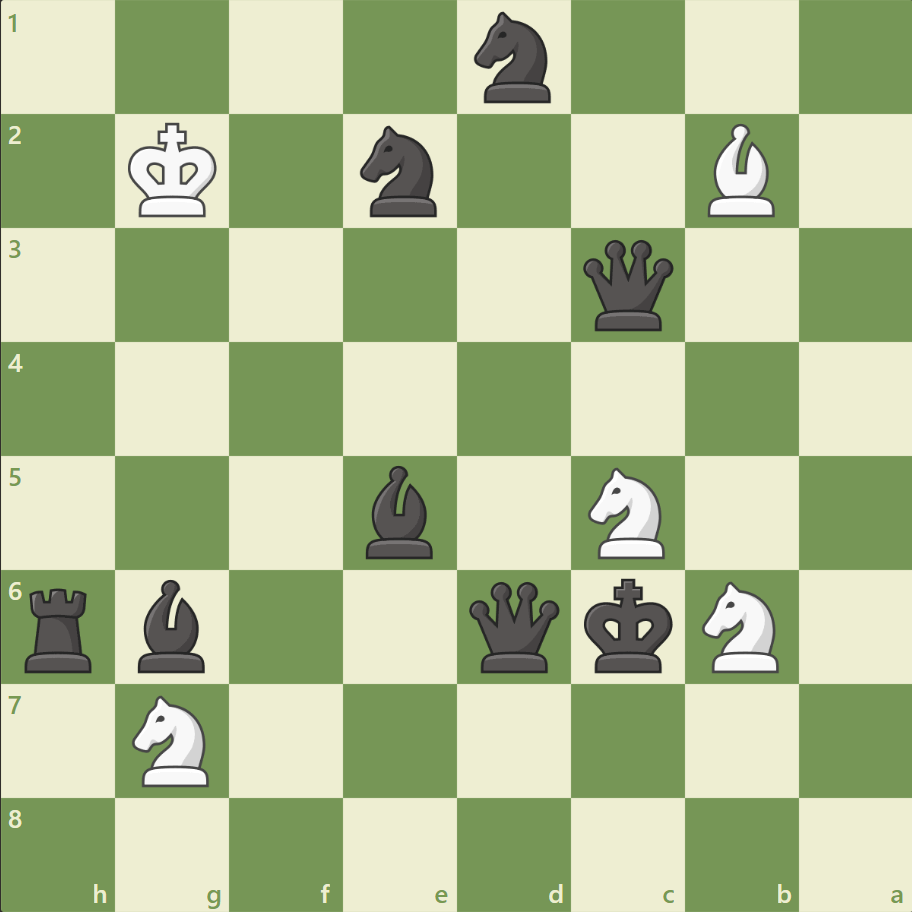B: (698, 120, 782, 222)
K: (124, 117, 224, 225)
N: (124, 688, 222, 791), (579, 461, 676, 564), (692, 575, 789, 677)
b: (358, 460, 442, 563), (131, 574, 215, 676)
k: (579, 571, 679, 679)
n: (351, 121, 449, 223), (465, 7, 562, 110)
q: (464, 576, 563, 676), (578, 236, 677, 335)
r: (19, 579, 102, 676)
